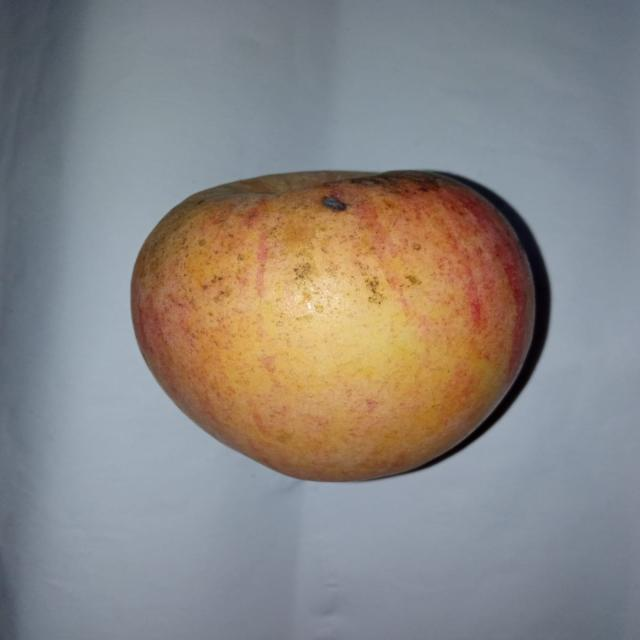fresh_apple: (134, 167, 536, 484)
